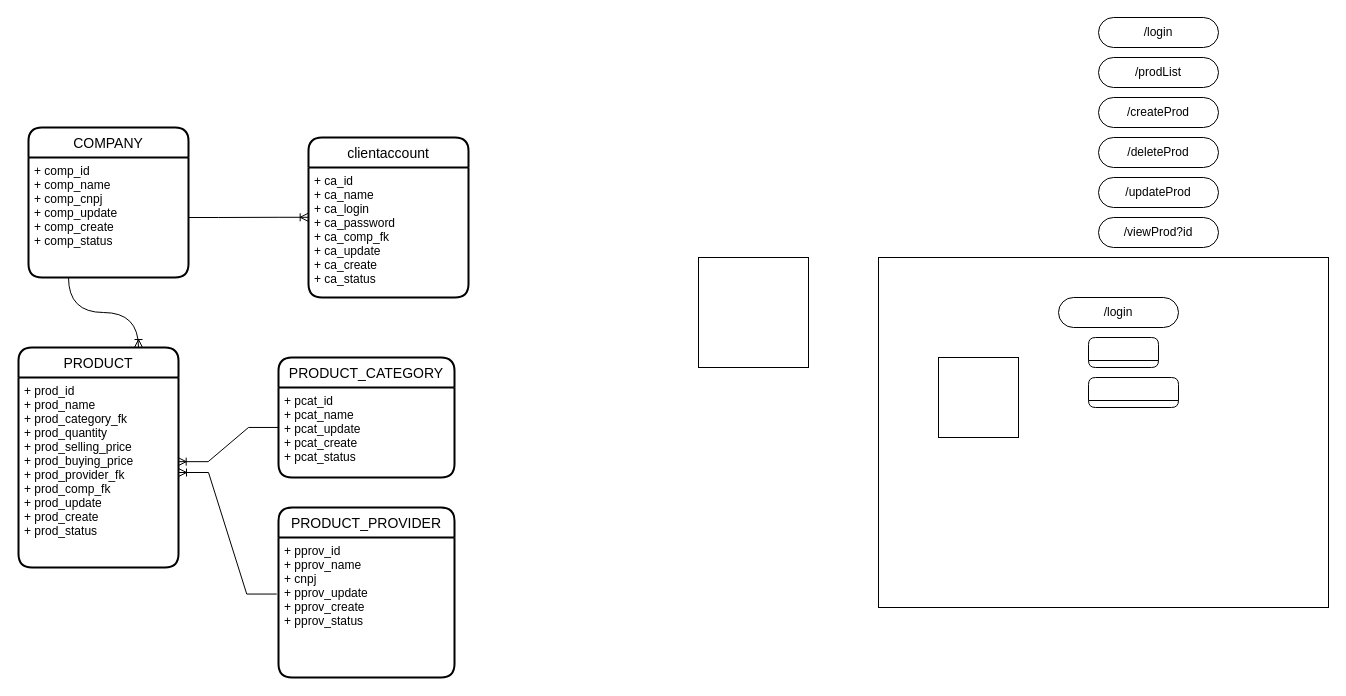
This 1346x696 diagram has some shape labels left out. The centre of each missing label's shape, as x and y in pixels:
/prod: [1123,352]
/provider: [1133,392]
Client: [753,312]
Controler: [978,397]
